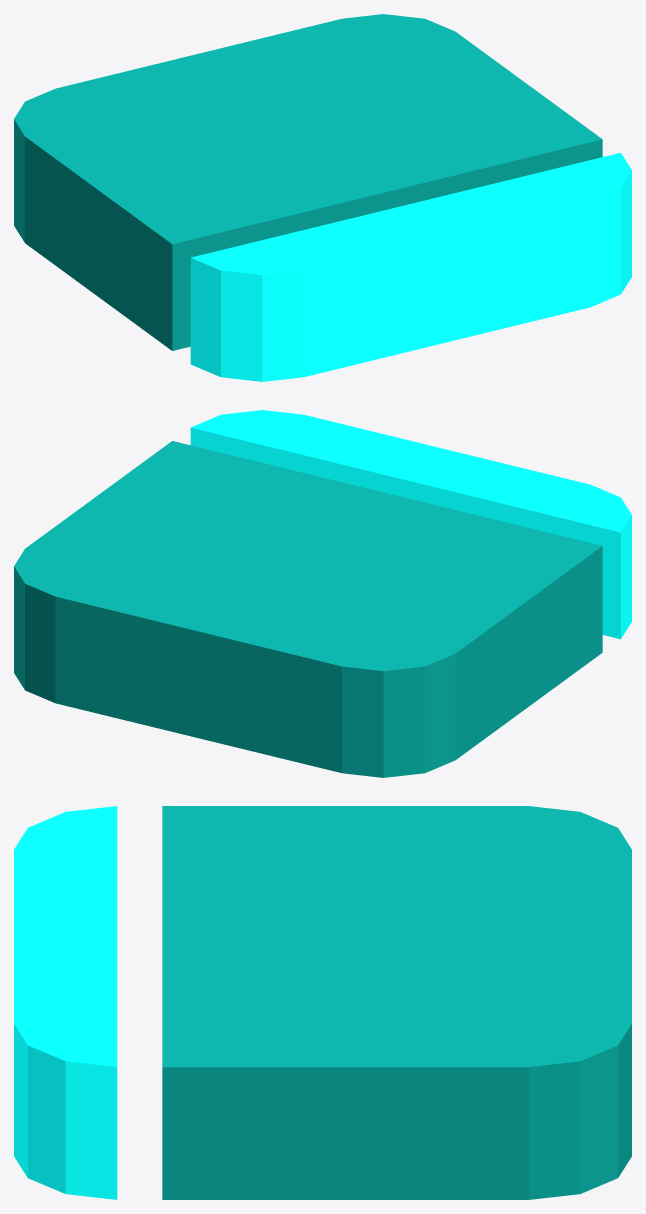
Rendered from silver_anubis.gltf.
3 views of the same model, one above another, from view 1: azimuth 30°, elevation 25°; view 2: azimuth 150°, elevation 25°; view 3: azimuth 270°, elevation 25° (orthographic). The views are drawn at different scales.
Visible parts, largest first — view 1: icon_anubis_silver; view 2: icon_anubis_silver; view 3: icon_anubis_silver.
Part boxes in pixels (<box>): icon_anubis_silver: <box>14,14,631,381</box>; icon_anubis_silver: <box>14,410,631,777</box>; icon_anubis_silver: <box>14,806,631,1199</box>.
Bounding box in the file's own units: 1.42 × 0.3378 × 1.42.
2 materials, 2 textured.
